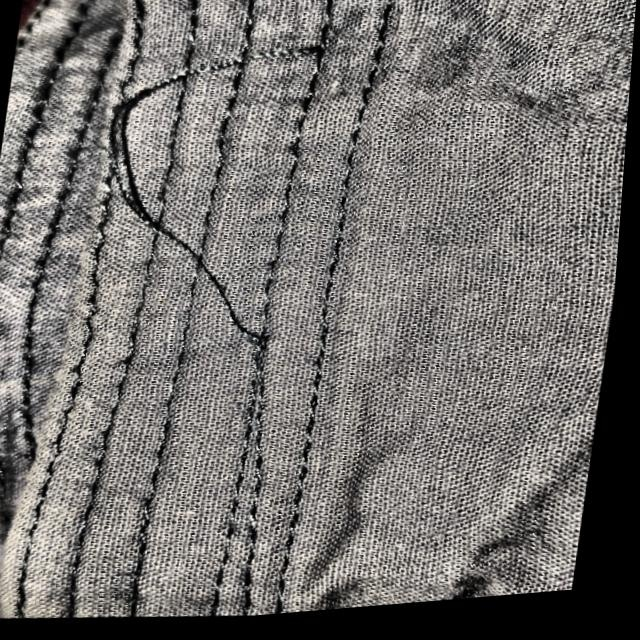Stitch: (28, 0, 383, 407)
